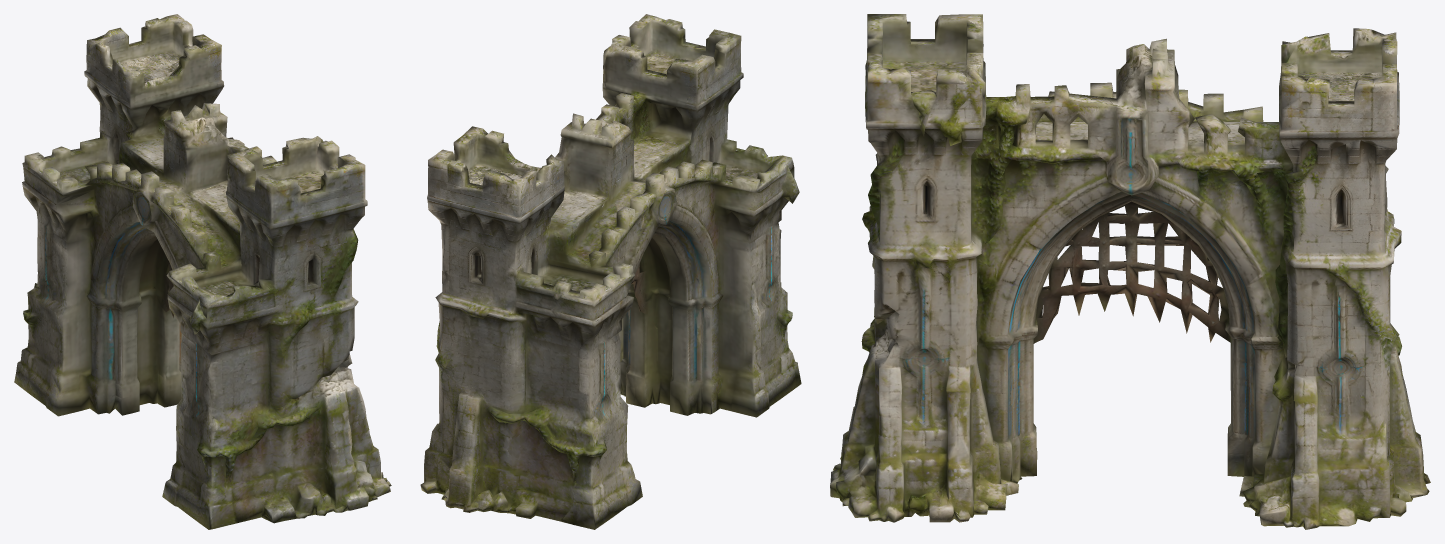
File: env_gate.glb
The picture shows the model from 3 angles, left to right: view 1: azimuth 30°, elevation 25°; view 2: azimuth 150°, elevation 25°; view 3: azimuth 270°, elevation 25°; orthographic projection. The views are drawn at different scales.
Visible parts, largest first — view 1: tripo_node_593522a1-f16f-49b4-b959-d1adfc67dba4; view 2: tripo_node_593522a1-f16f-49b4-b959-d1adfc67dba4; view 3: tripo_node_593522a1-f16f-49b4-b959-d1adfc67dba4.
Part boxes in pixels (left/top/right/bottom): tripo_node_593522a1-f16f-49b4-b959-d1adfc67dba4: left=14, top=14, right=391, bottom=529; tripo_node_593522a1-f16f-49b4-b959-d1adfc67dba4: left=420, top=14, right=801, bottom=529; tripo_node_593522a1-f16f-49b4-b959-d1adfc67dba4: left=830, top=14, right=1430, bottom=529.
Bounding box in the file's own units: 0.5103 × 0.7917 × 1.
Materials: 1 (1 with a texture image).
